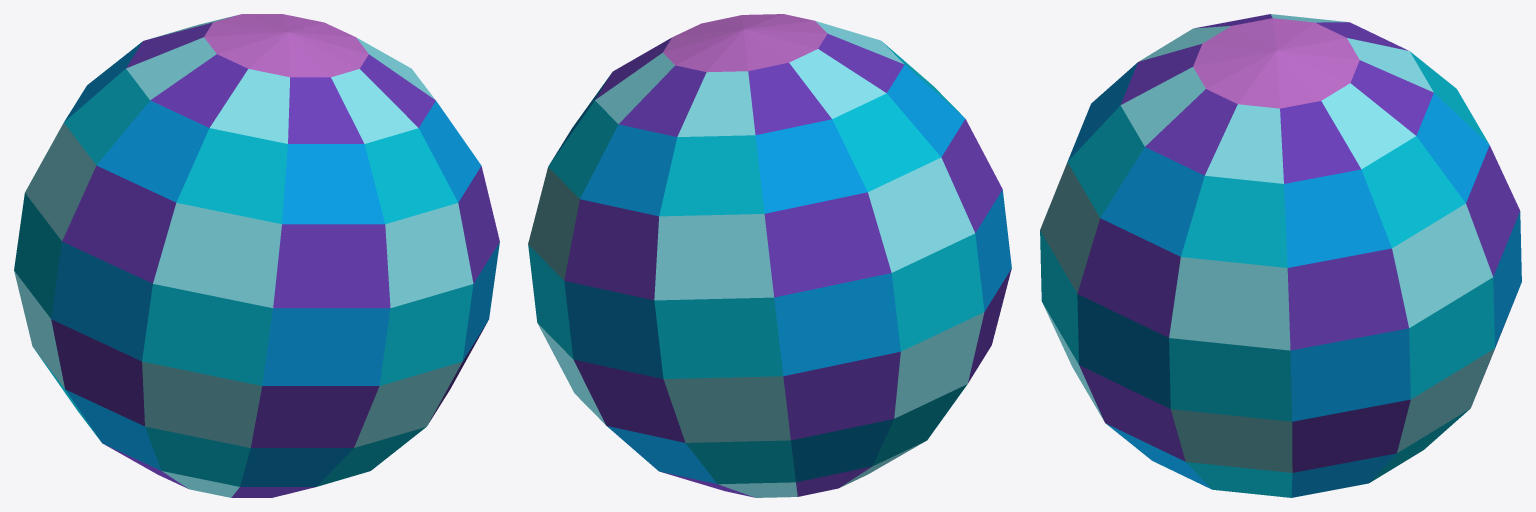
3 views of the same model, side by side, from view 1: azimuth 30°, elevation 25°; view 2: azimuth 150°, elevation 25°; view 3: azimuth 270°, elevation 25° (orthographic).
Parts seen in each view (by area): view 1: mesh_872686796; view 2: mesh_872686796; view 3: mesh_872686796.
Boxes of the visible parts, x1=… form: mesh_872686796: x1=14, y1=14, x2=499, y2=497; mesh_872686796: x1=528, y1=14, x2=1011, y2=497; mesh_872686796: x1=1040, y1=14, x2=1521, y2=497.
Size of the model in its own units: 226 by 224 by 223.
